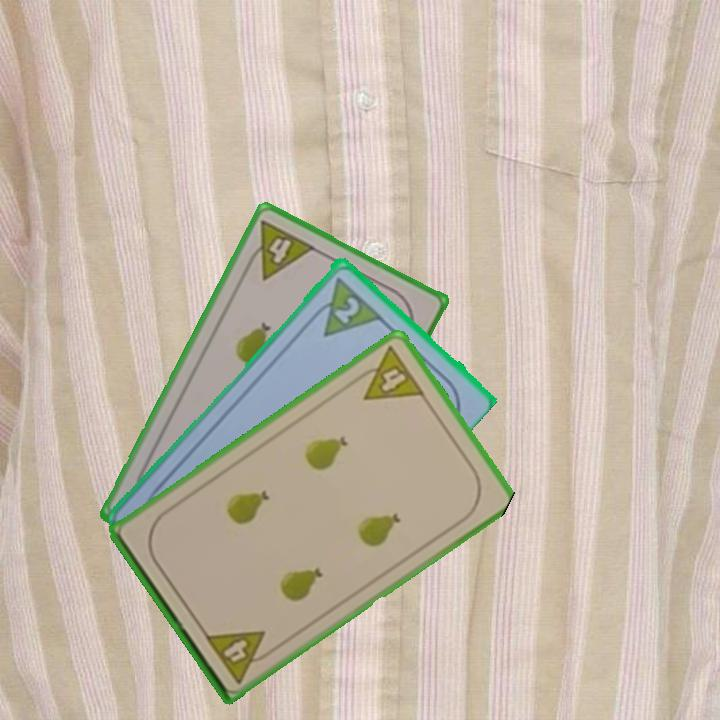2p: (330, 292, 363, 326)
4p: (240, 216, 318, 283), (348, 342, 428, 403), (201, 626, 278, 687)
